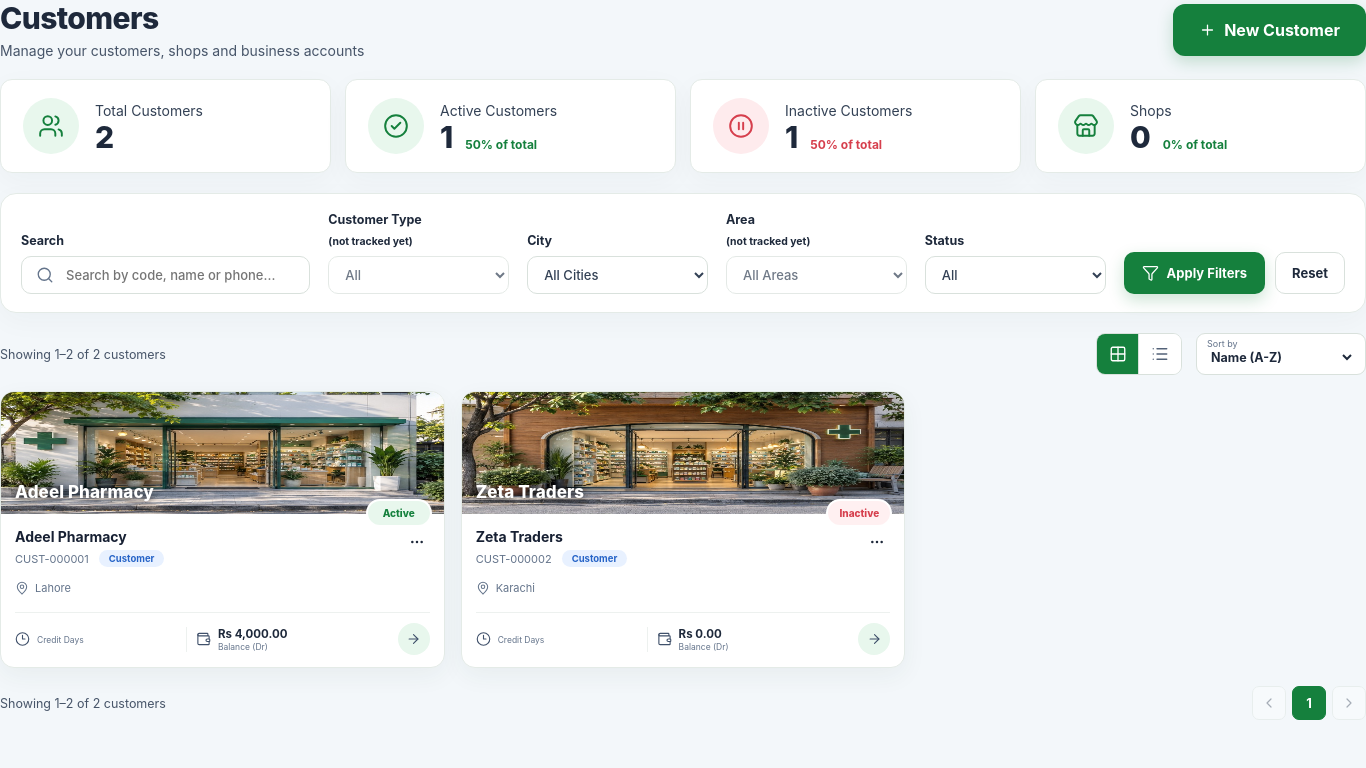
Test case: PartyList (Customer) — real API › deactivates a customer and refuses with the server balance on CUSTOMER_HAS_BALANCE
Expected: the heading "Adeel Pharmacy" is shown, [15, 528, 127, 545]
Step 1. Click the button named "List view" → click(1160, 354), box [1139, 334, 1181, 374]
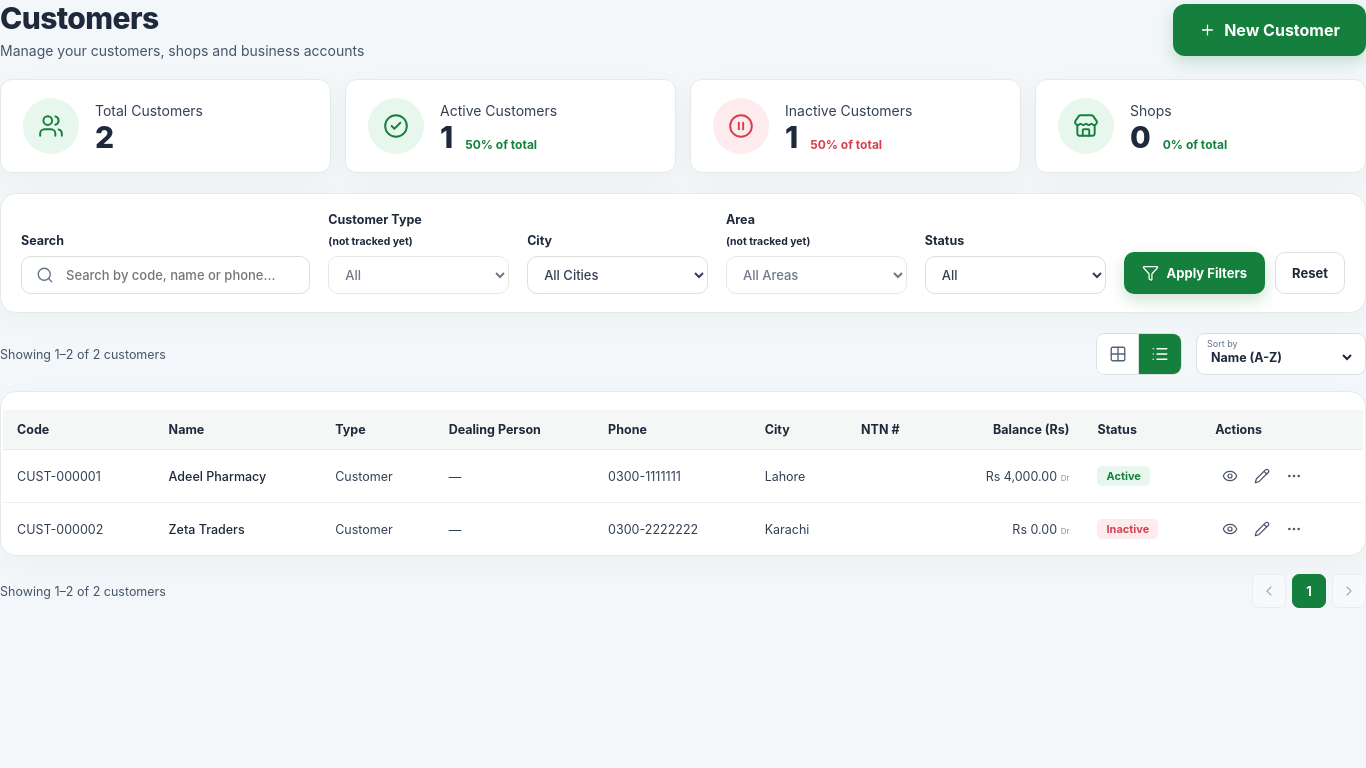
Step 2. Click the button named "More for" → click(1294, 476), box [1279, 461, 1309, 491]
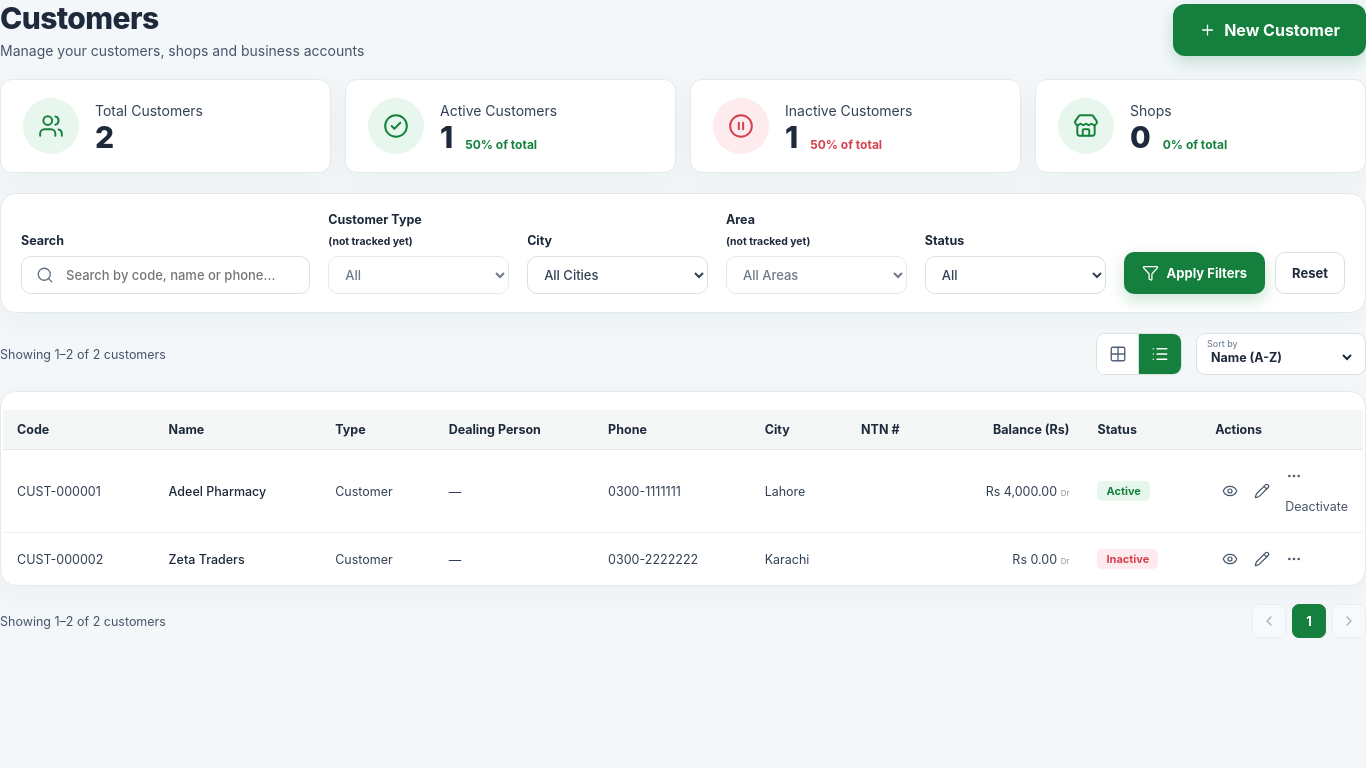
Step 3. Click the menu item "Deactivate" → click(1294, 506), box [1279, 491, 1309, 521]
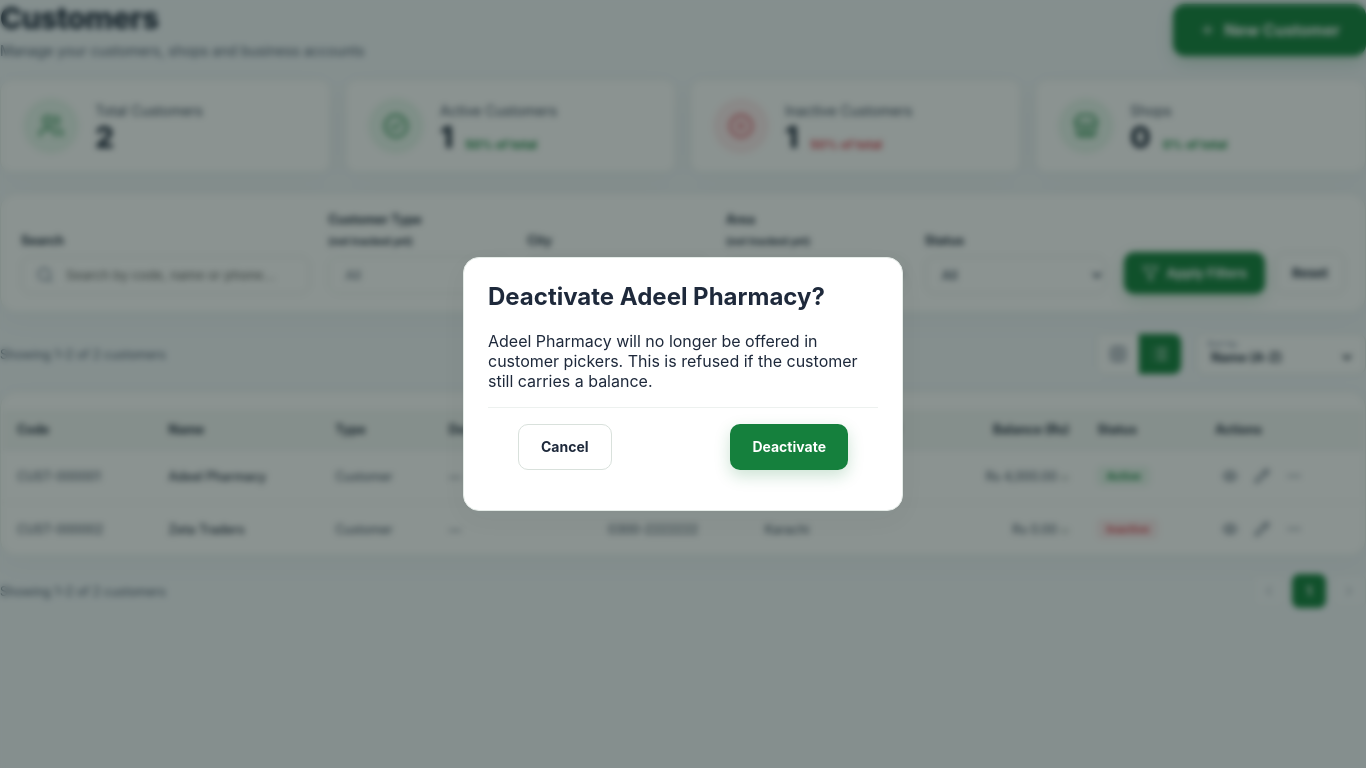
Step 4. Click the button "Deactivate" → click(789, 447), box [730, 424, 848, 470]
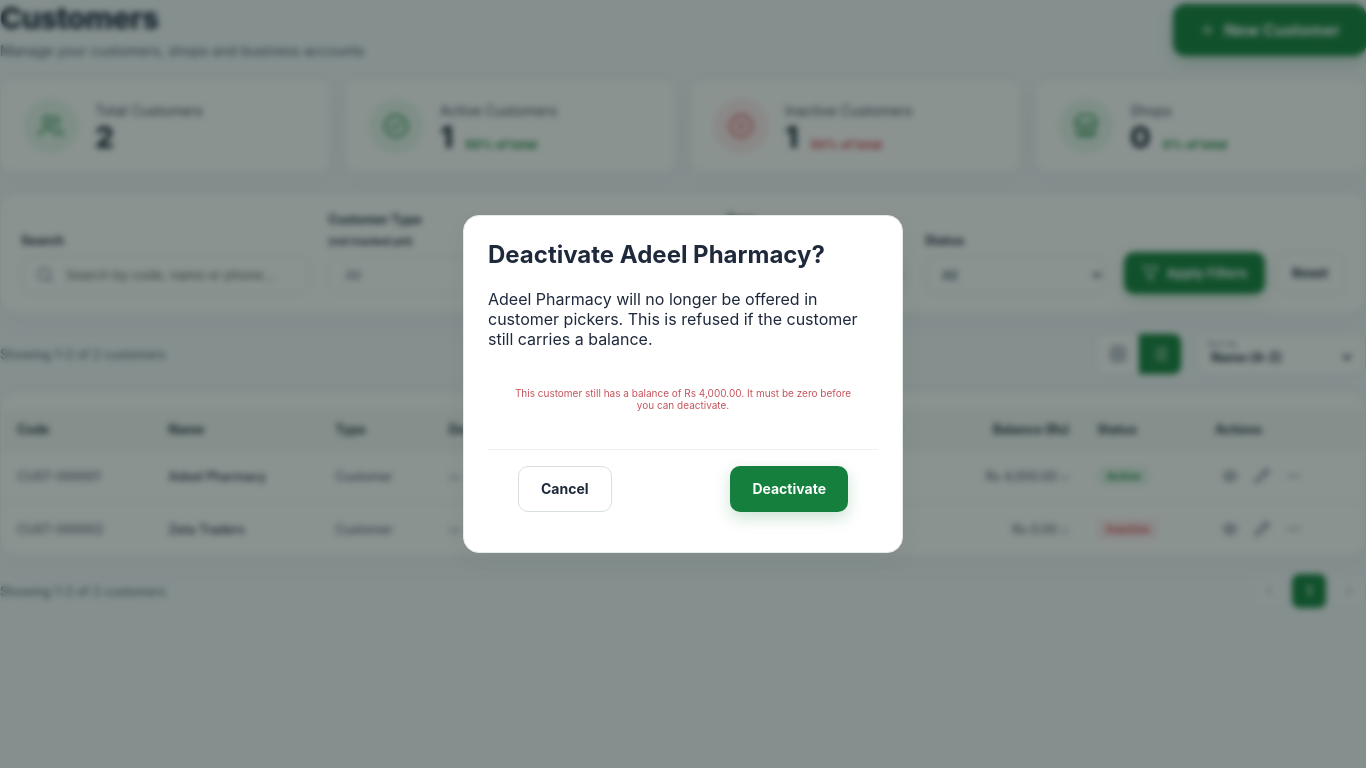
Expected: the text "still has a balance of" is shown, [515, 387, 851, 411]
